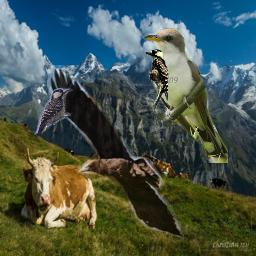Crow: (47, 65, 184, 240)
Cuckoo: (143, 27, 228, 163)
Woodpecker: (31, 86, 73, 141), (144, 49, 170, 111)
